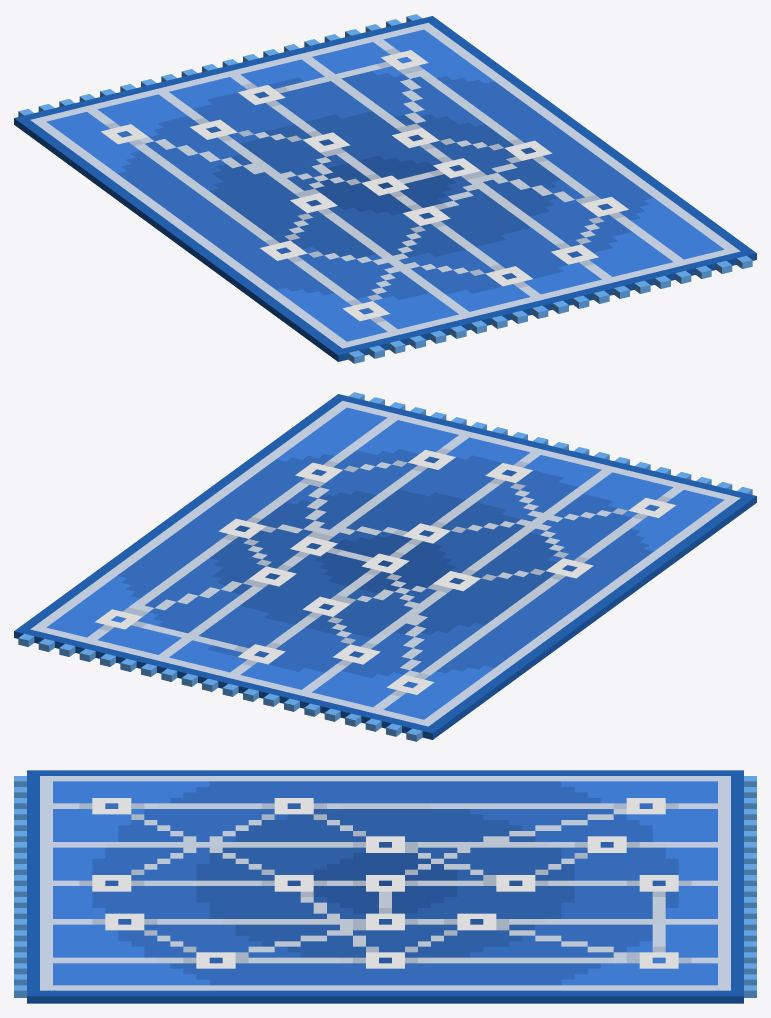
The model's file is CSG1N7S3.glb.
The picture shows the model from 3 angles, top to bottom: view 1: azimuth 30°, elevation 25°; view 2: azimuth 150°, elevation 25°; view 3: azimuth 270°, elevation 25°; orthographic projection. The views are drawn at different scales.
Parts seen in each view (by area): view 1: Curve.405; view 2: Curve.405; view 3: Curve.405.
Boxes of the visible parts, x1,y1,x2,y2 form: Curve.405: (14,14,756,363); Curve.405: (14,392,756,741); Curve.405: (14,770,756,1003).
Size of the model in its own units: 0.8229 by 0.0125 by 1.14.
